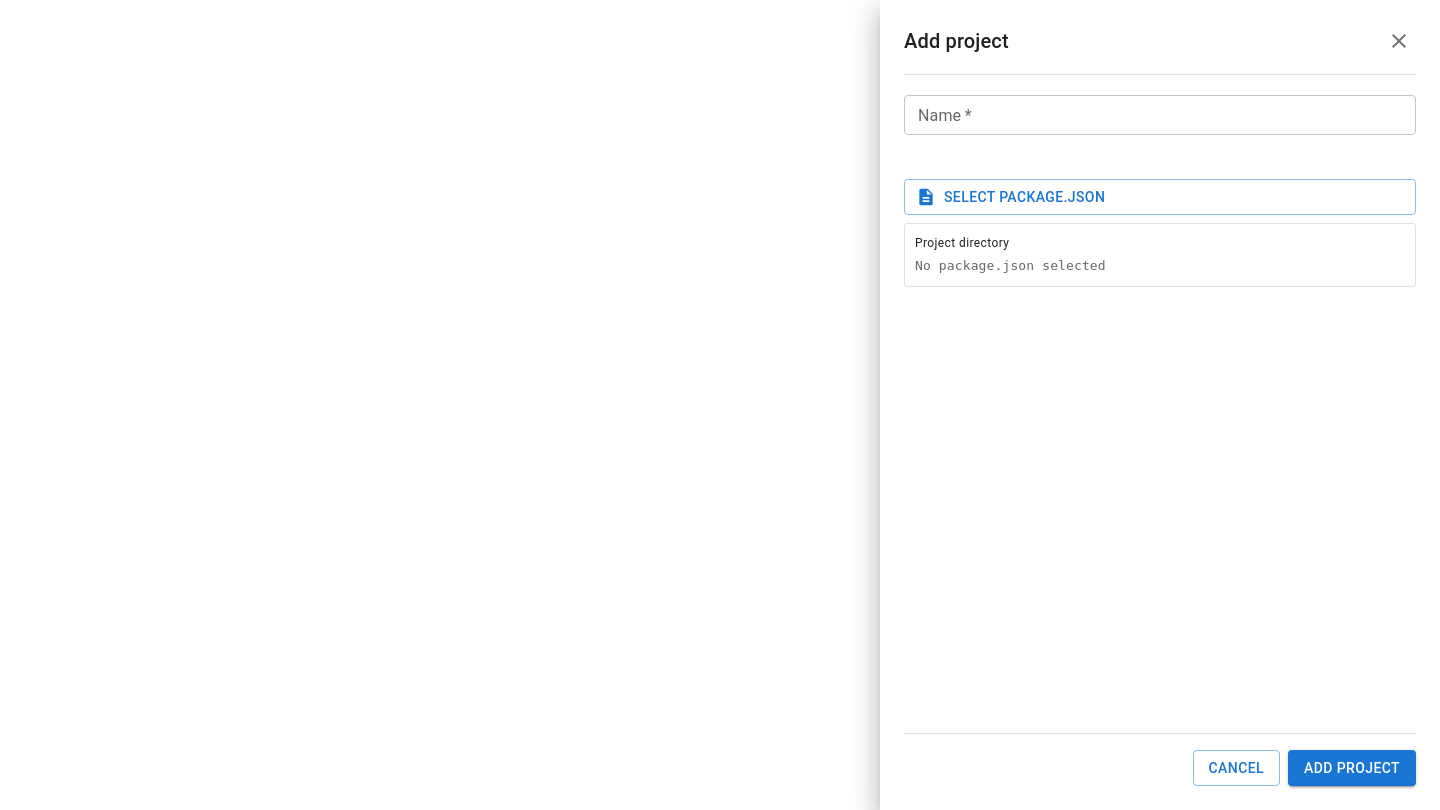
it: ProjectFormDrawer › navigates folders in the package.json picker
Click the button "Select package.json" at point(1025, 197), box [904,179,1416,215]
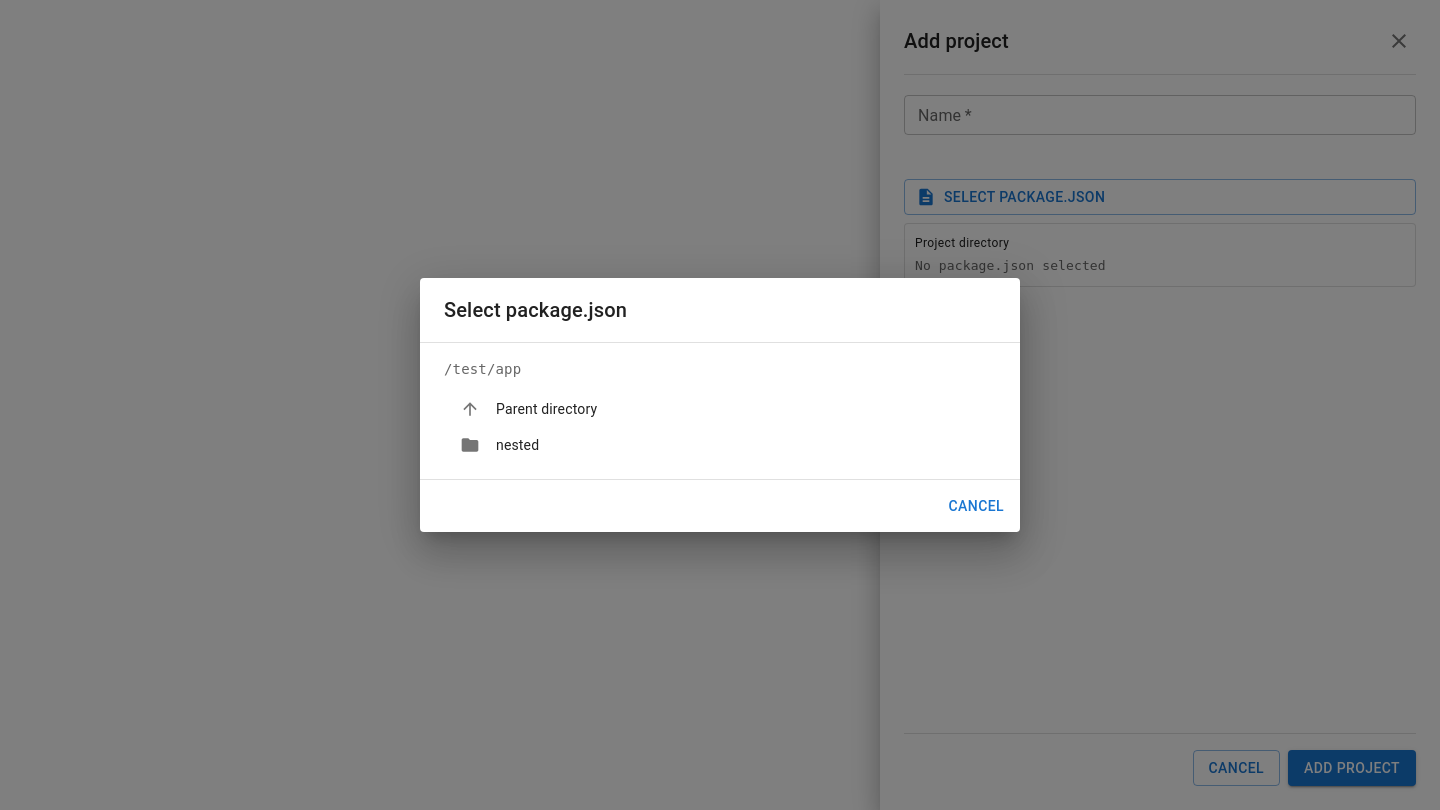
Click the button "nested" at point(500, 445), box [460,435,539,455]
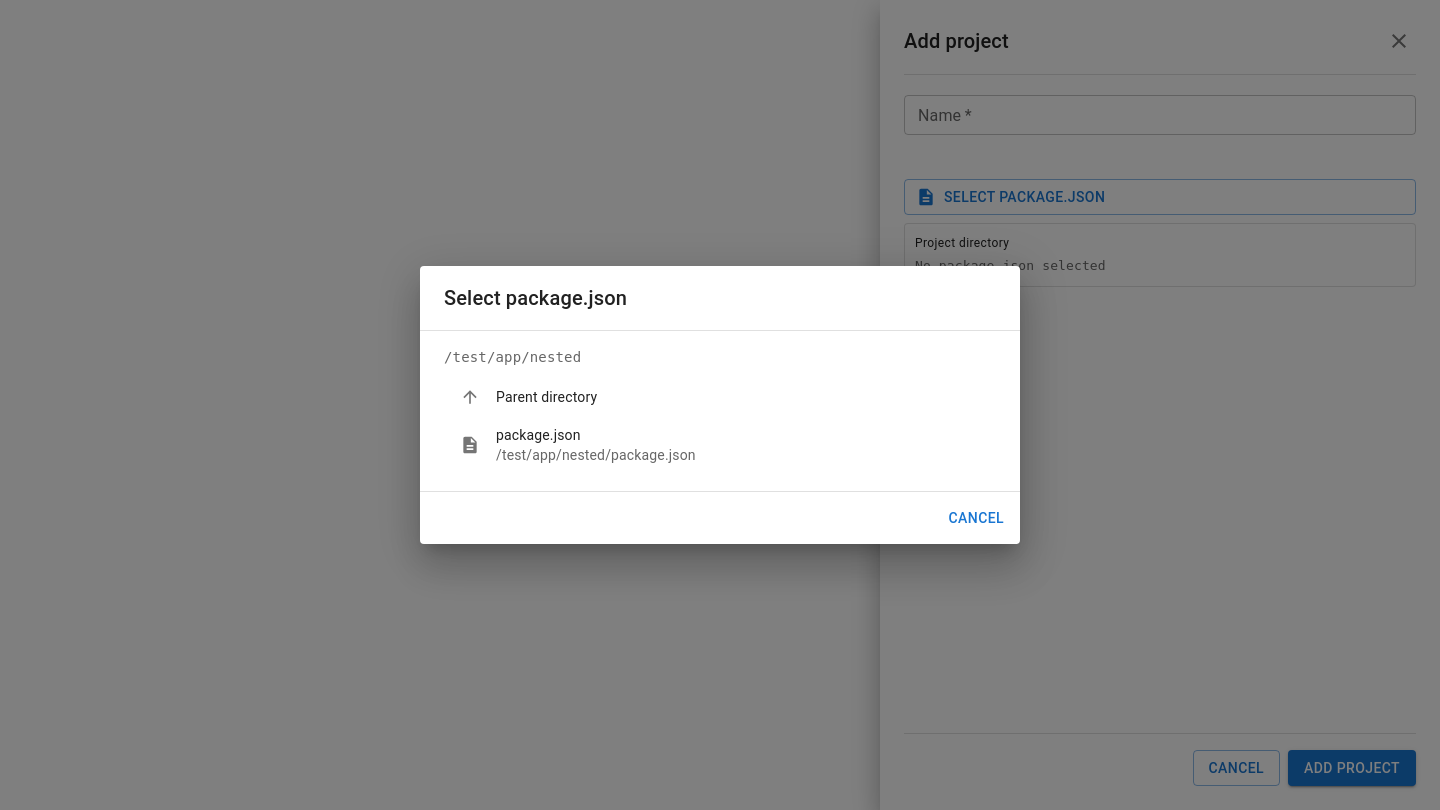
expect the text "/test/app/nested" is shown: met, box [444,347,581,367]
